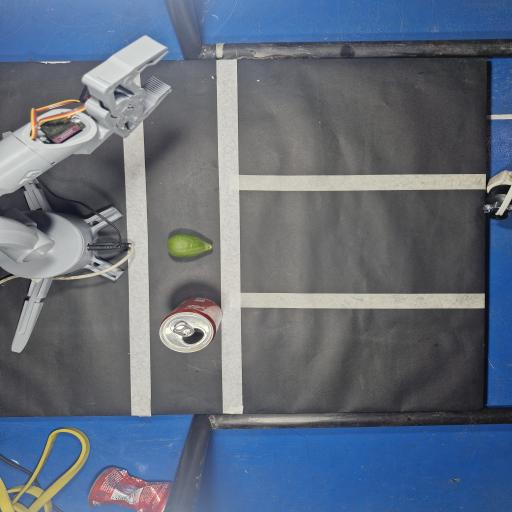higo: (167, 234, 211, 257)
lata: (159, 297, 222, 353)
